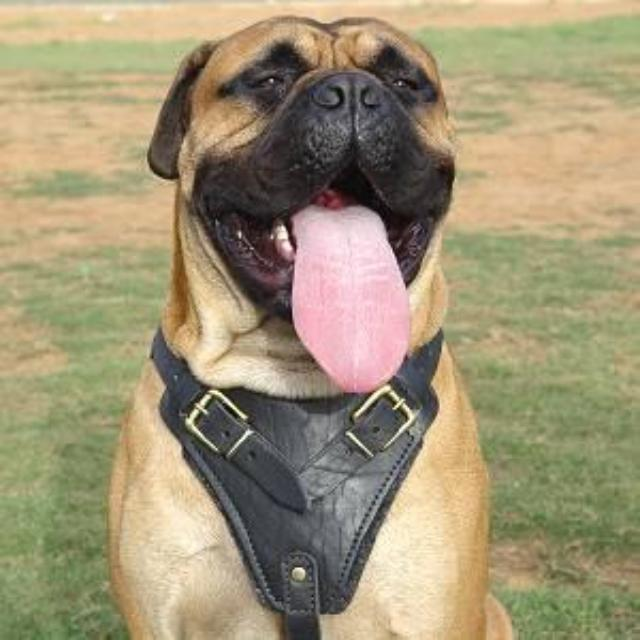bullmastiff: (103, 14, 521, 639)
